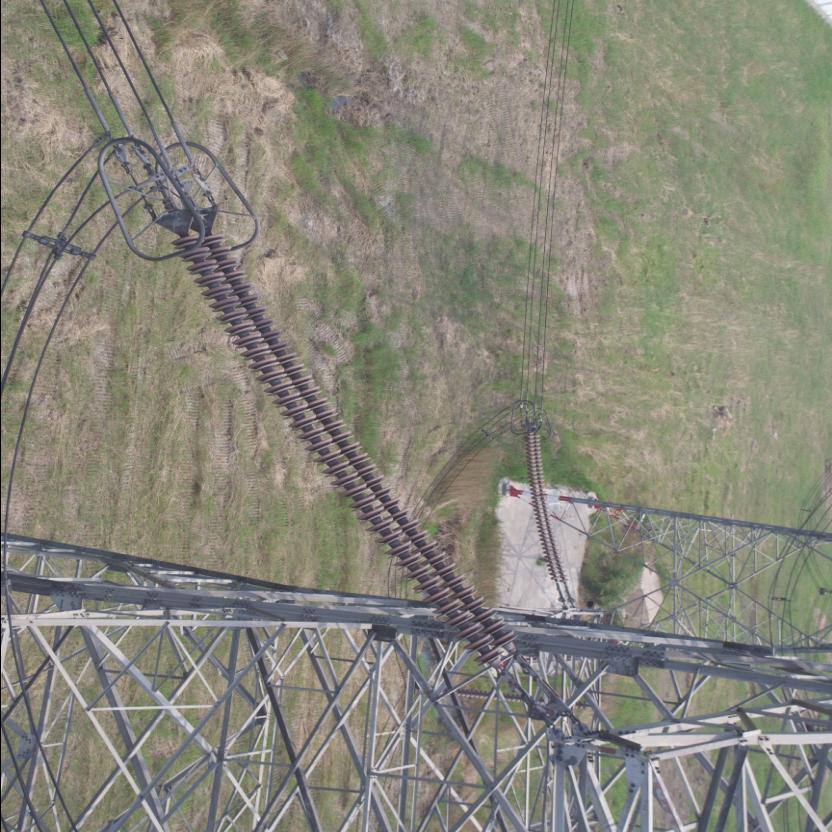insulator: (167, 230, 523, 696), (521, 424, 569, 600)
